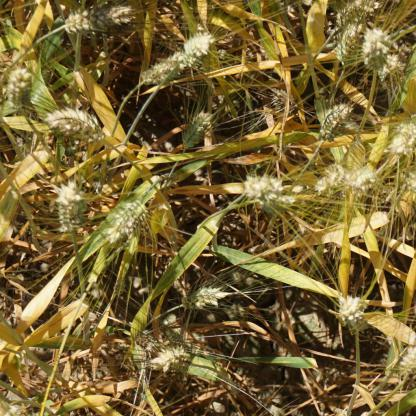whd: (59, 2, 138, 36), (42, 108, 100, 148), (242, 170, 286, 211), (137, 57, 186, 93), (104, 193, 145, 236), (179, 107, 219, 150), (313, 102, 355, 142), (56, 176, 83, 237), (2, 68, 36, 114), (383, 116, 416, 162), (153, 338, 190, 376), (315, 159, 353, 195), (336, 295, 370, 335), (342, 165, 382, 197), (176, 31, 219, 59), (361, 25, 389, 67), (183, 283, 223, 312), (340, 0, 383, 25), (340, 24, 365, 67), (267, 88, 301, 117), (380, 49, 404, 85), (402, 343, 416, 383), (403, 165, 416, 199), (0, 395, 16, 415)
